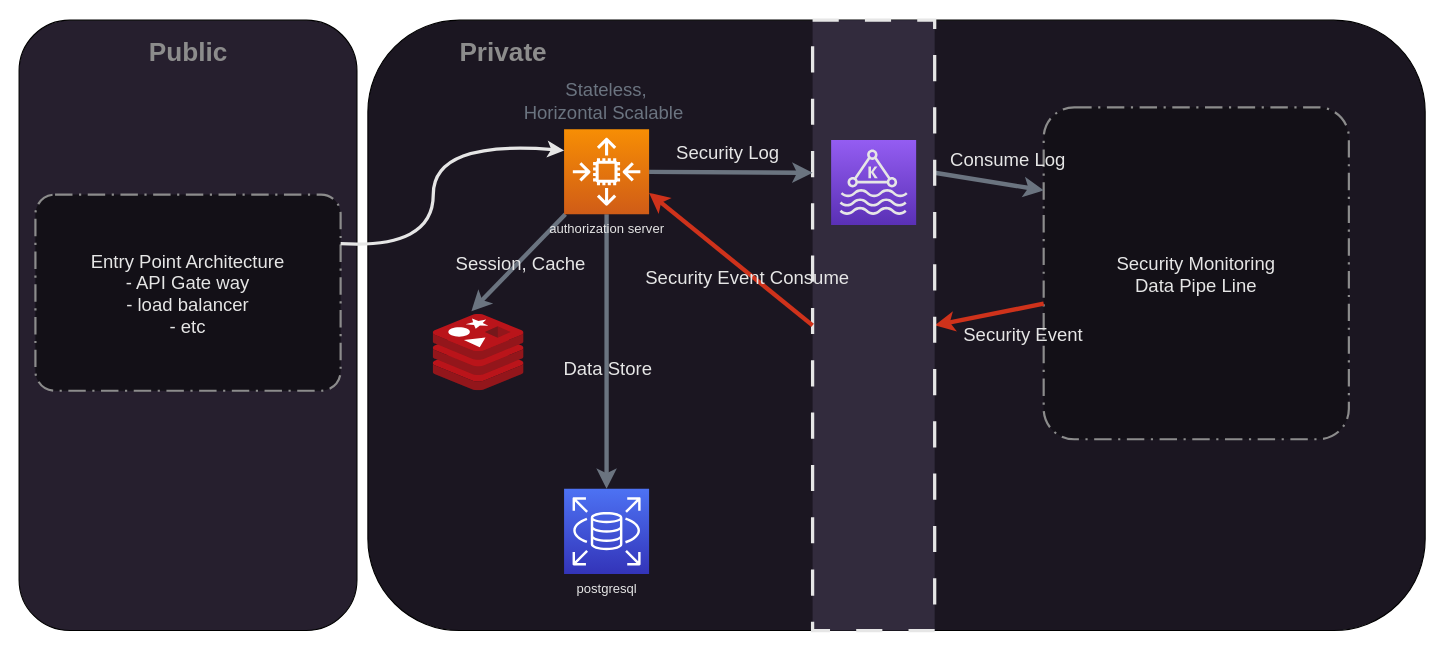
Image size: 1444x651. Some labels were removed from this diagram. The box of each missing label's shape, as (x1, y1, x2, y2) in pixels:
external session cache db query cache: (433, 314, 524, 390)
MSK or kafka: (830, 139, 916, 225)
